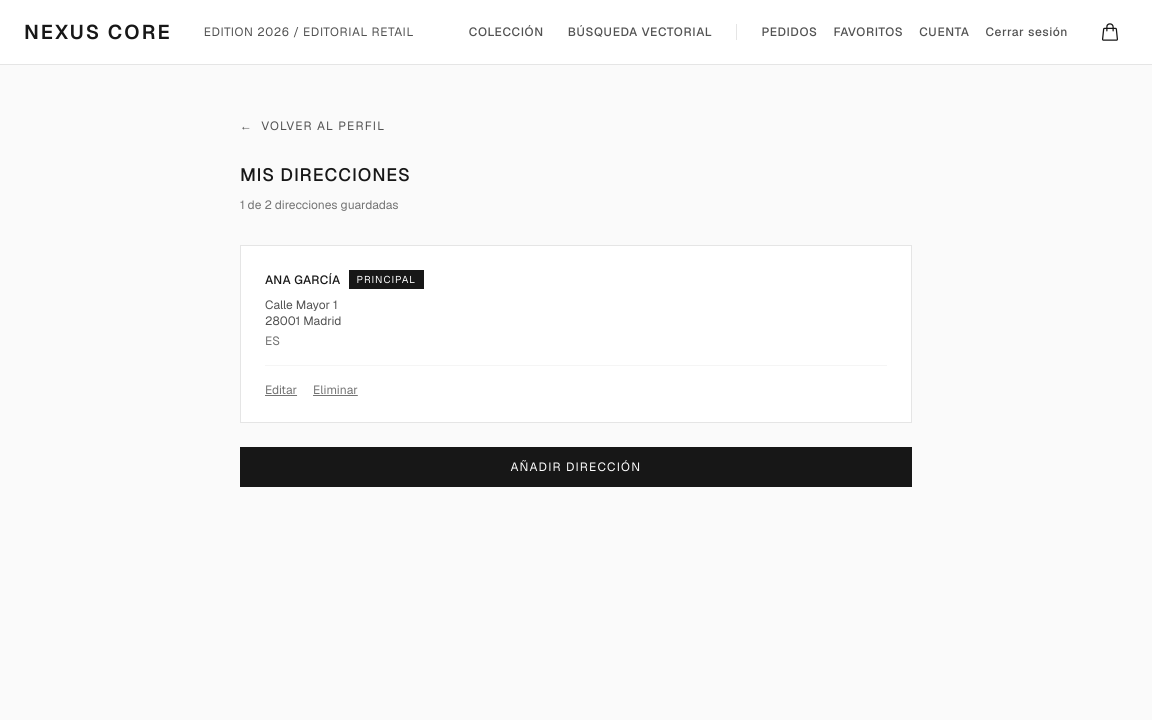
Scenario: AddressesPage › debe rechazar el guardado si falta algún campo obligatorio
Click the button "Añadir dirección" at x=576, y=467, box [240, 447, 912, 487]
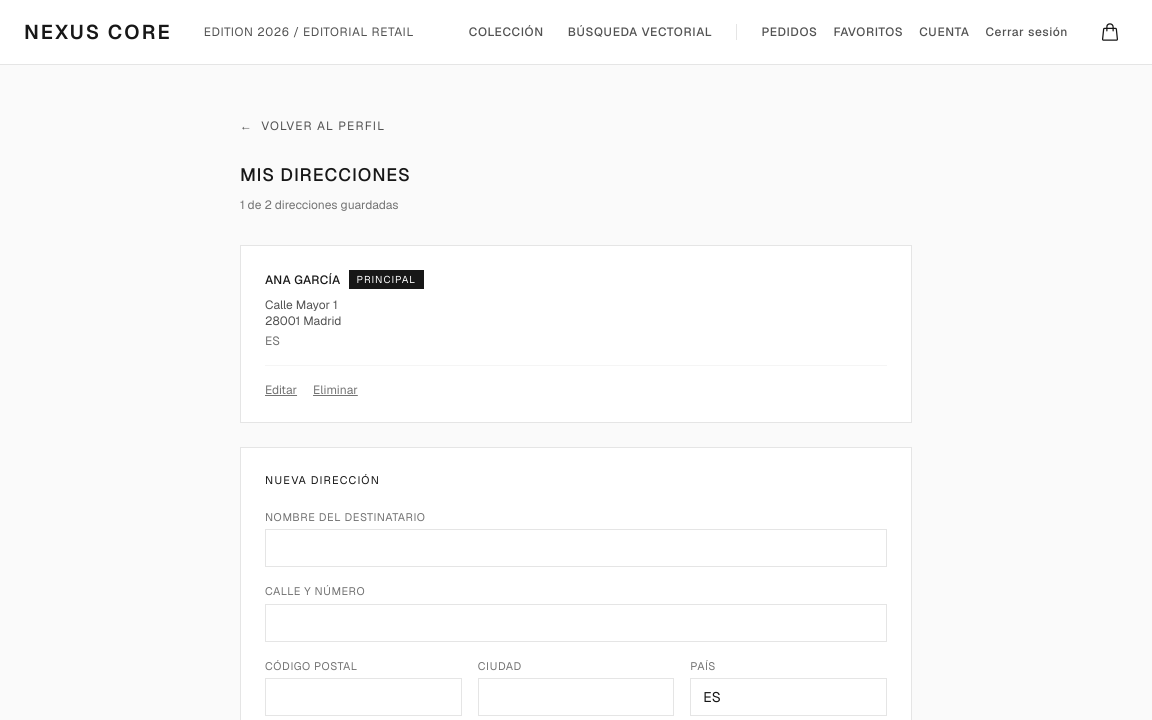
Check: the heading "Nueva dirección" is shown, box [265, 473, 380, 487]
# relleno solo el nombre, dejando la calle vacía
Type "Ana García" into the field labelled "Nombre del destinatario" at x=576, y=548, box [265, 529, 887, 567]
(page scrolled)
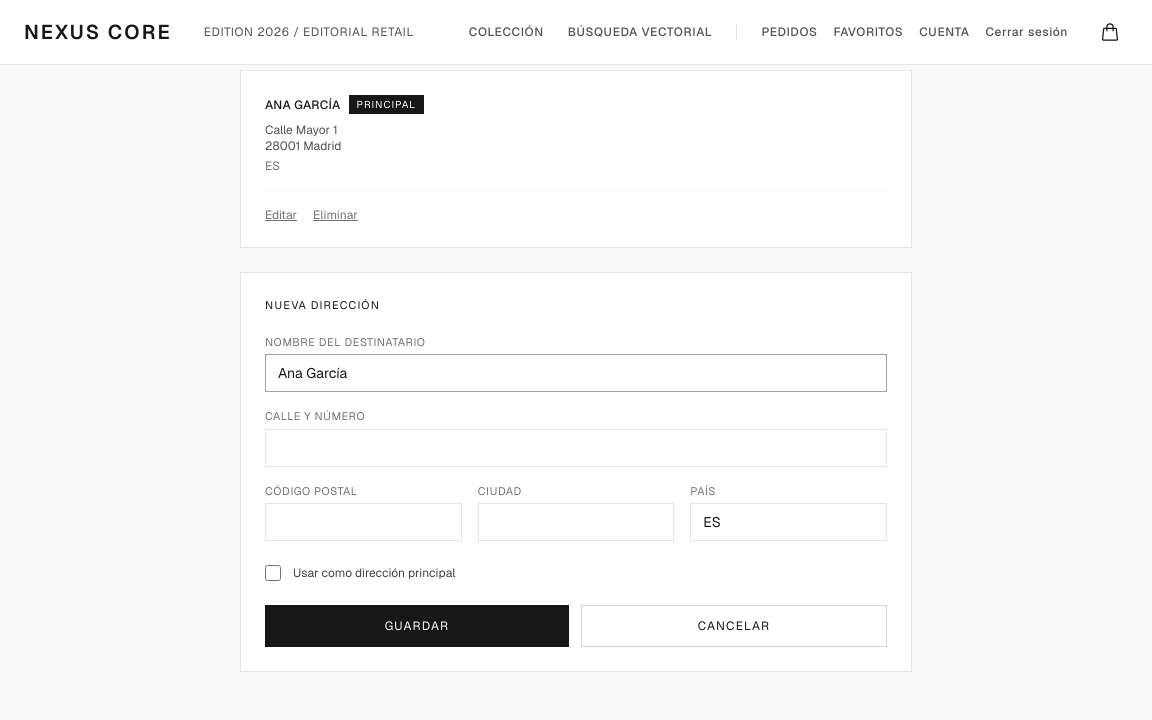
Click the button "Guardar" at x=417, y=626, box [265, 605, 569, 647]
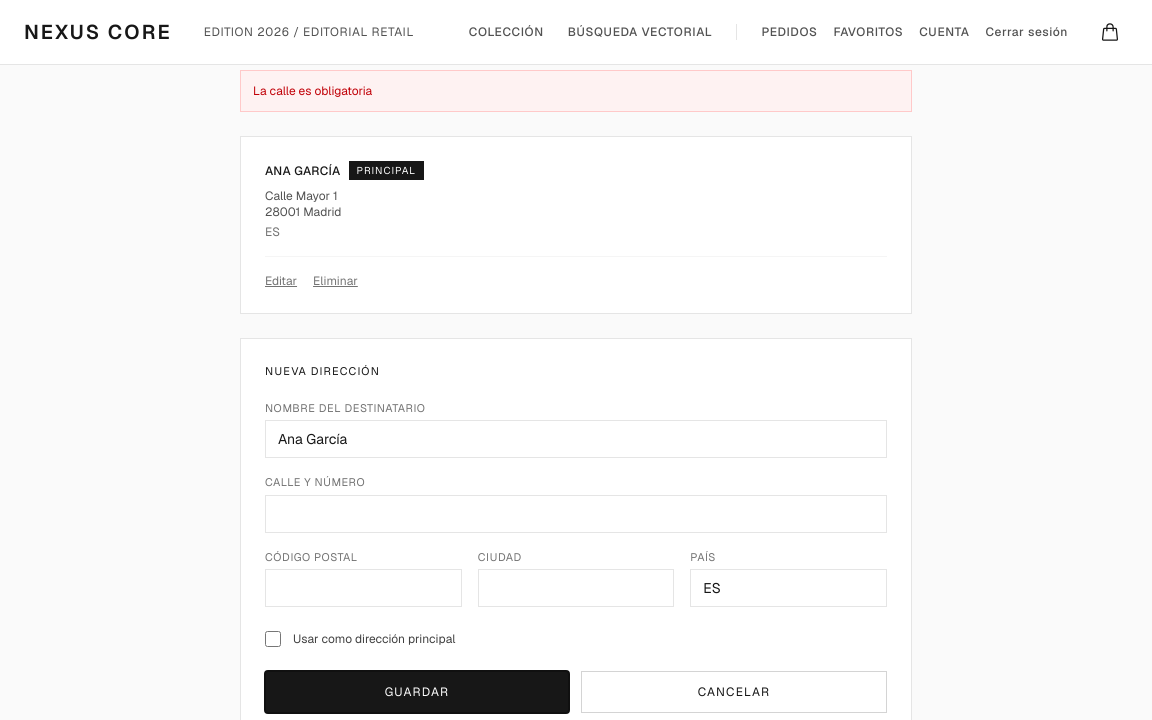
Check: the message reads "La calle es obligatoria", box [253, 83, 372, 99]
